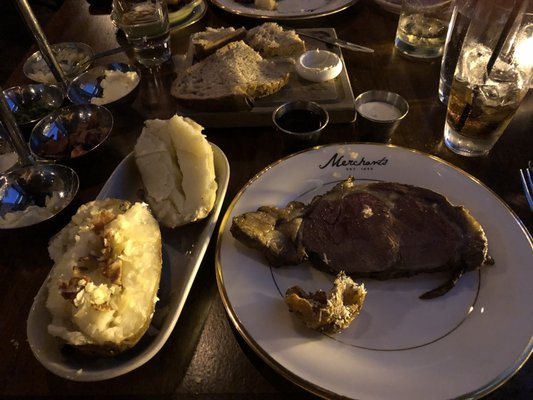pizza: (440, 0, 533, 158), (110, 0, 173, 68), (393, 0, 457, 61), (353, 90, 410, 145), (273, 99, 330, 153)
salad: (294, 28, 375, 55)
soup: (43, 198, 163, 353), (132, 115, 217, 230)
sushi: (28, 102, 115, 189), (0, 161, 81, 237), (273, 99, 330, 153)
